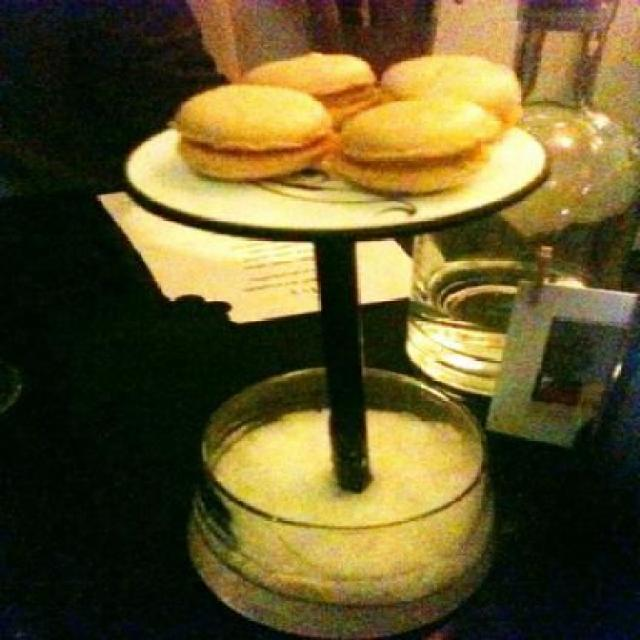Macaron: (150, 40, 555, 218)
